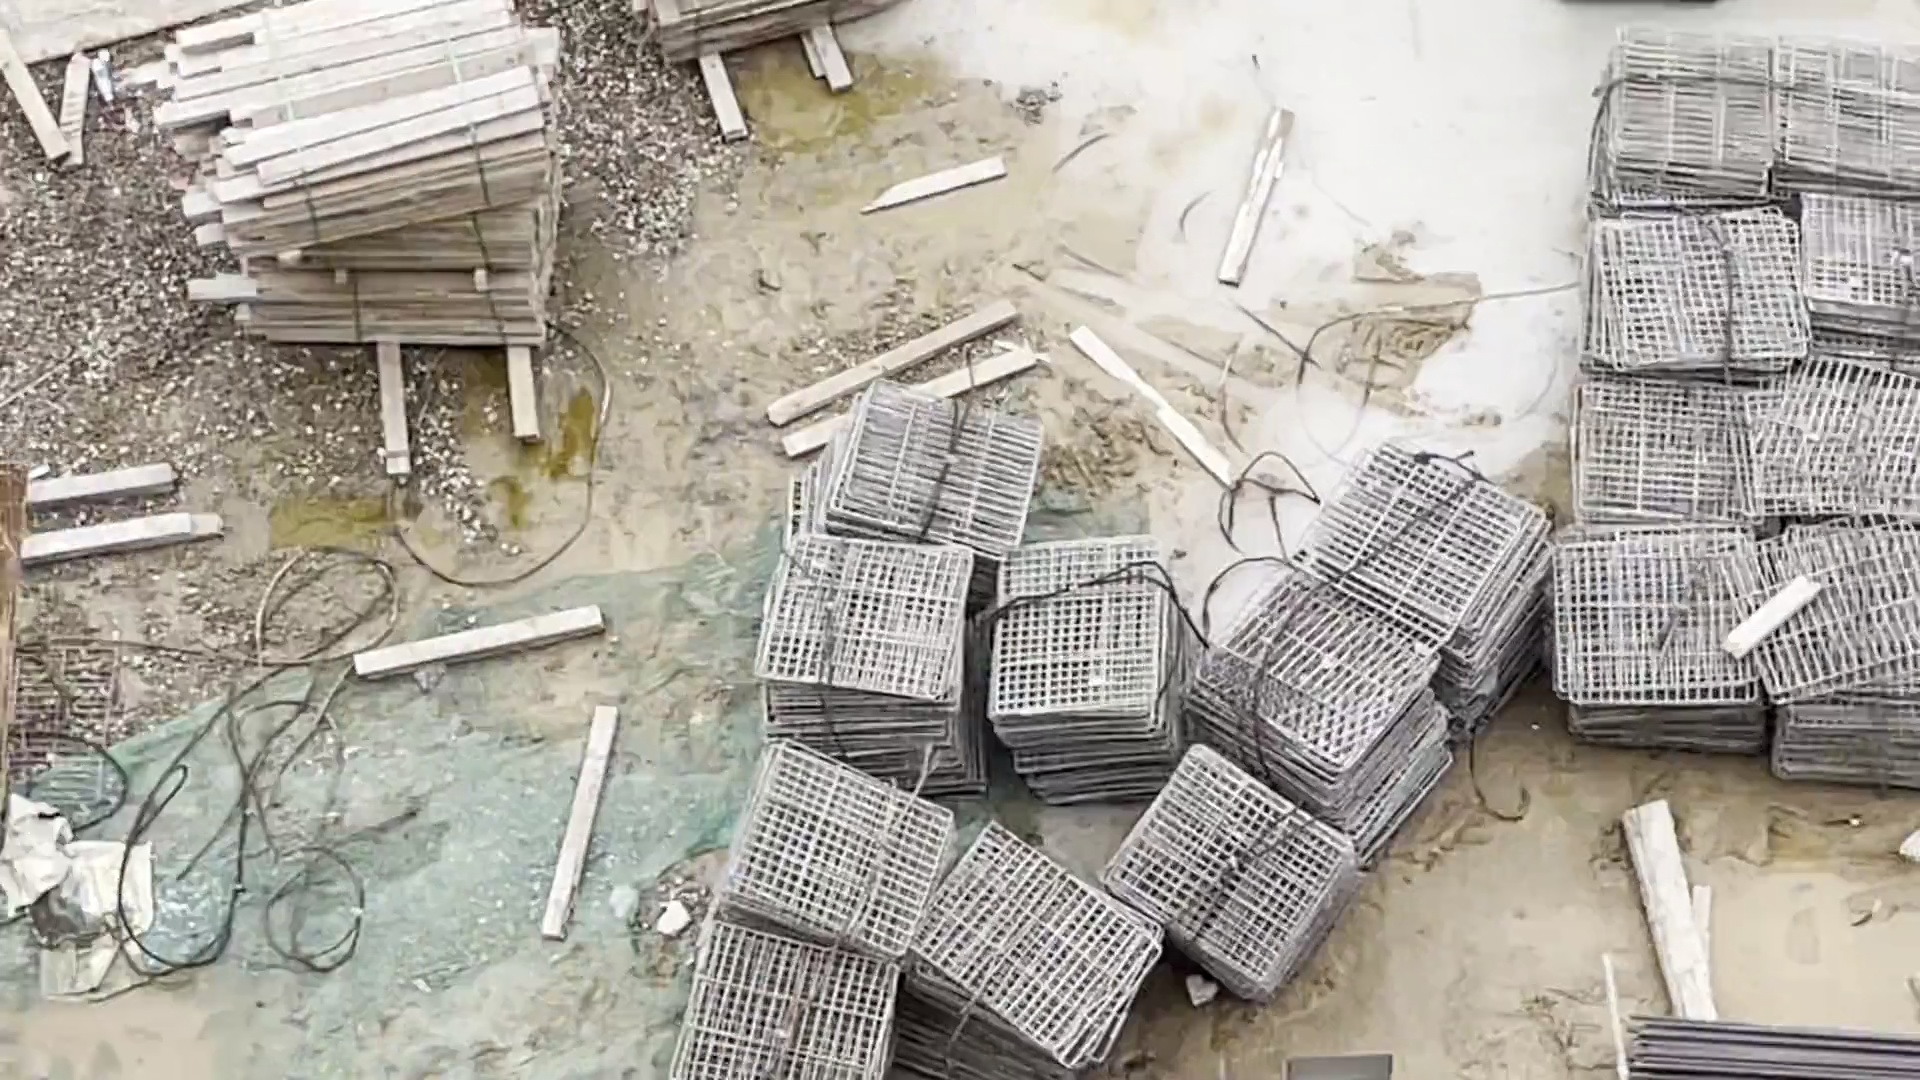wood: (171, 15, 574, 357)
